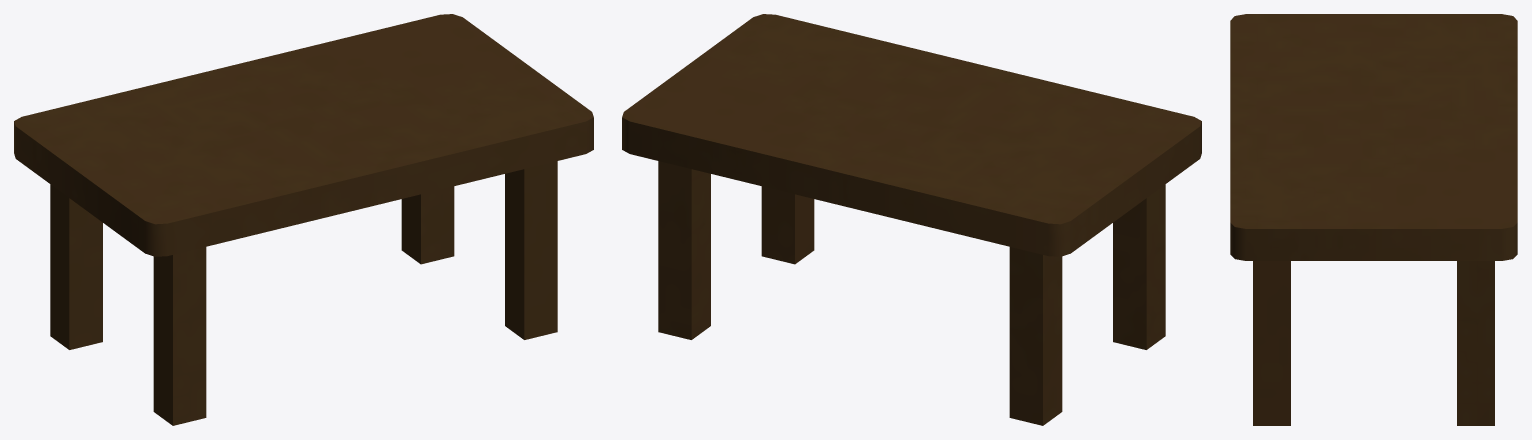
Rendered from Table1.fbx.
3 renders of one model, left to right at view 1: azimuth 30°, elevation 25°; view 2: azimuth 150°, elevation 25°; view 3: azimuth 270°, elevation 25°, orthographic.
Parts seen in each view (by area): view 1: Table1; view 2: Table1; view 3: Table1.
Boxes of the visible parts, x1=… form: Table1: x1=14, y1=14, x2=593, y2=425; Table1: x1=622, y1=14, x2=1201, y2=425; Table1: x1=1230, y1=14, x2=1517, y2=425.
Bounding box in the file's own units: 135 × 62.11 × 76.39.
1 material, 1 textured.
